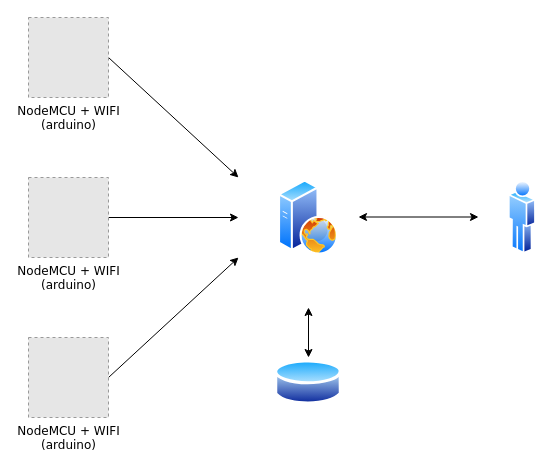
Image size: 553x471. Some labels were removed from this diagram. Grey dashed boxes stand in for pictures. Here are the shapes that lost their labels. From the top down, the box of each, then its label:
(278, 180, 338, 254): Backend (golang)
(274, 357, 342, 407): Time Series Database (InfluxDB)
